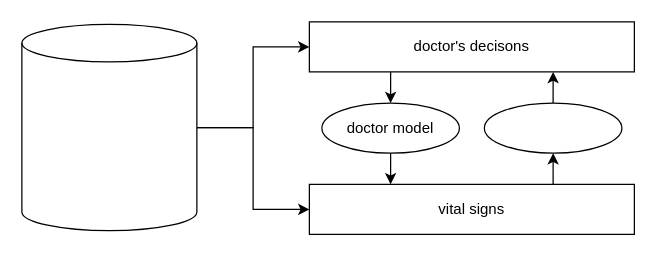
The diagram is 656 pixels wide and 256 high, and some of its shapes have lost their labels. Each missing label, with the centre of its shape:
"clinical histories" belongs at [109,127].
"patient model" belongs at [552,127].
